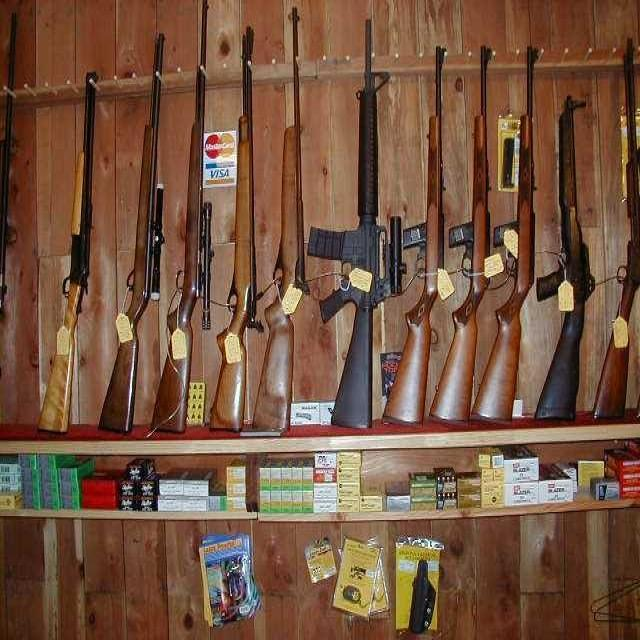weapon: (309, 4, 418, 431), (143, 0, 227, 440), (467, 42, 555, 426), (25, 53, 110, 434), (98, 22, 175, 430), (381, 28, 457, 430), (247, 0, 311, 461), (210, 2, 274, 446), (432, 39, 506, 422), (533, 74, 598, 446), (606, 32, 640, 431)
